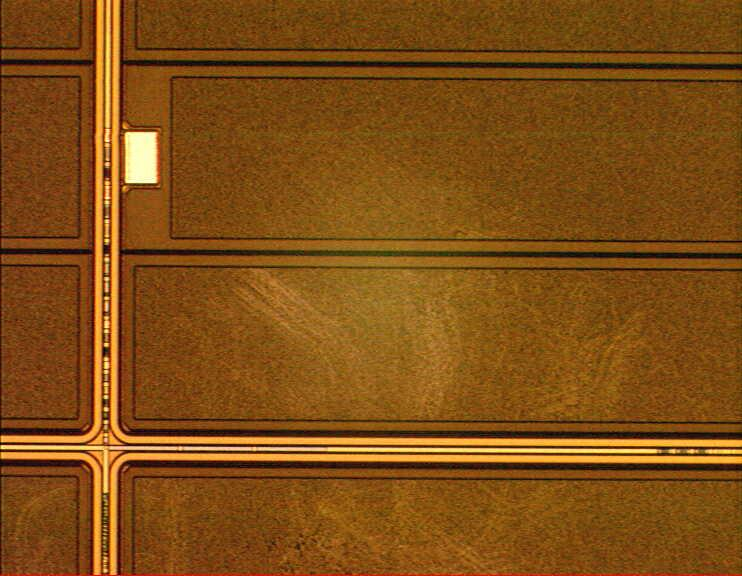SCRATCH: (8, 259, 666, 576)
